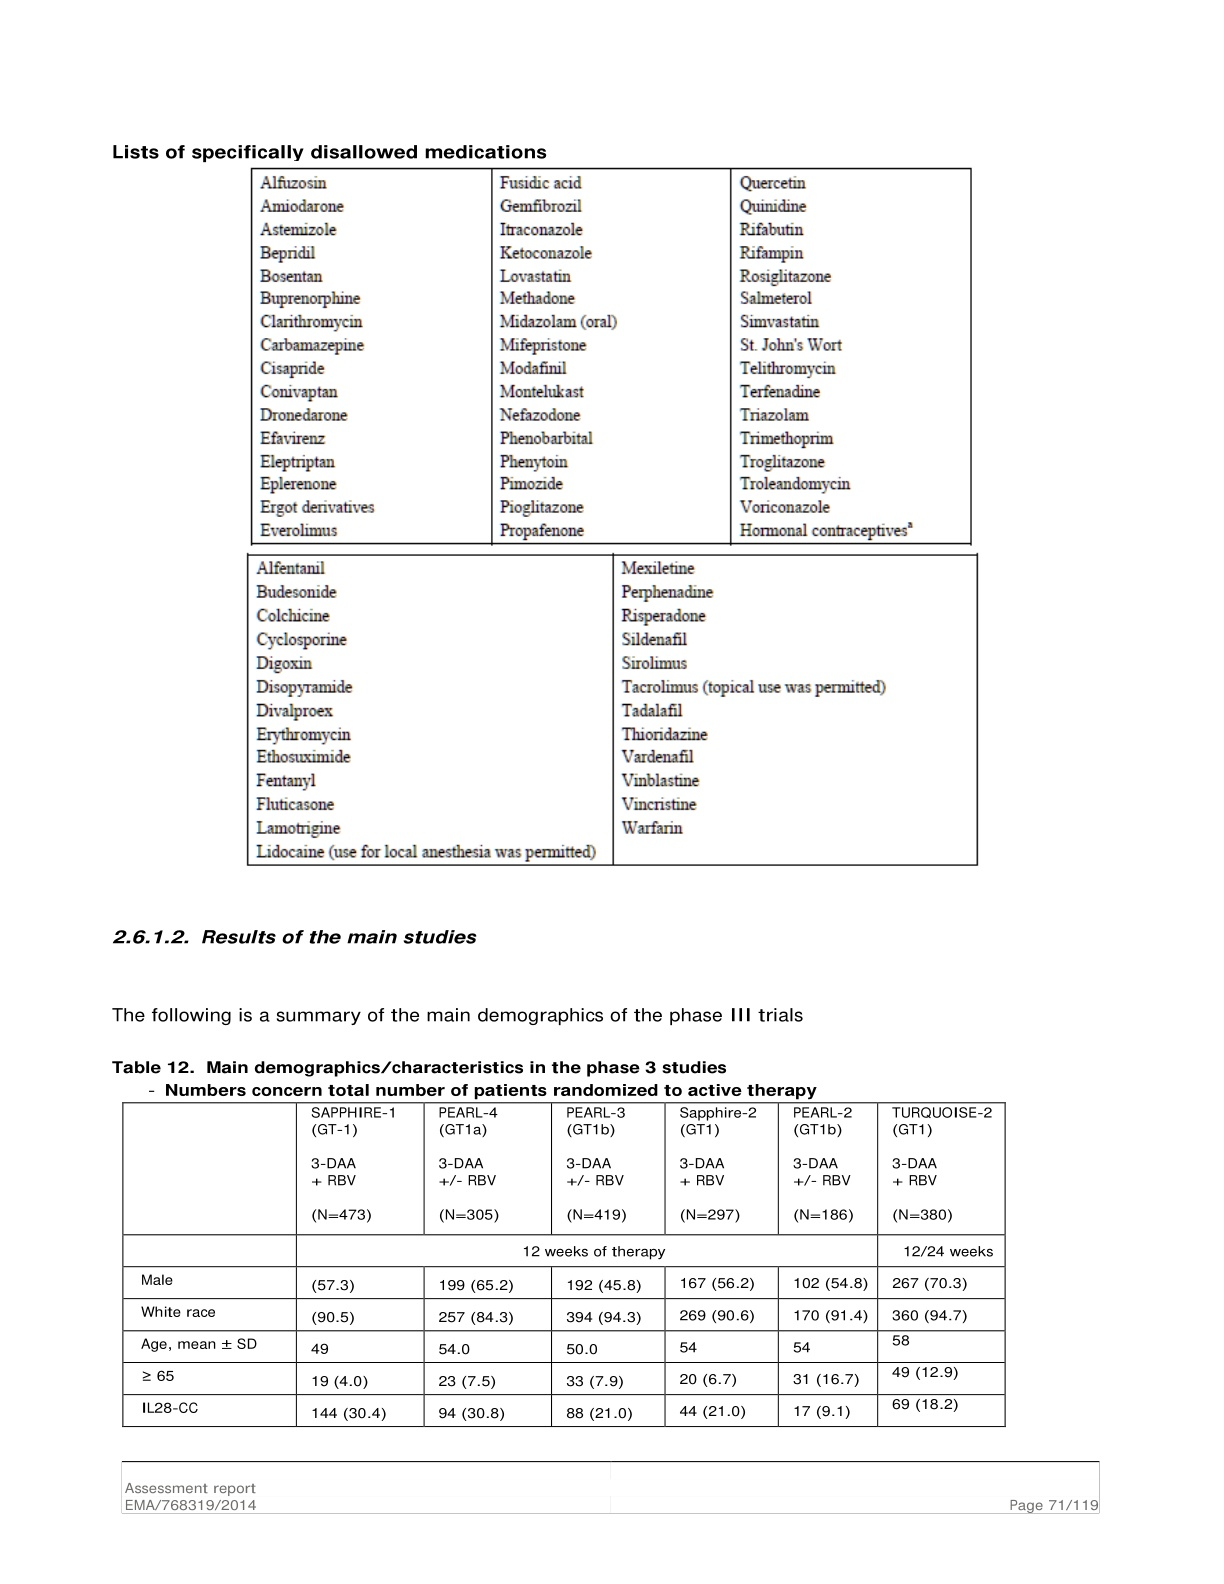merged_cells: (121, 1101, 1007, 1428)
partial_lined: (249, 167, 973, 545), (246, 553, 978, 867)
